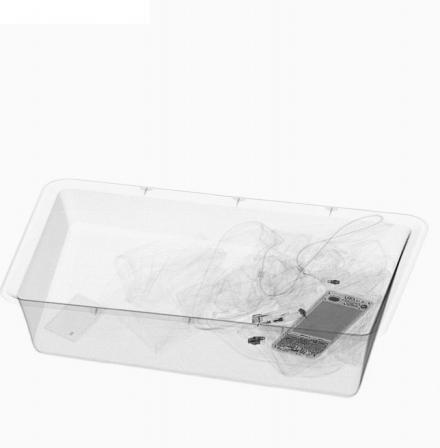Lighter: (250, 303, 308, 327)
